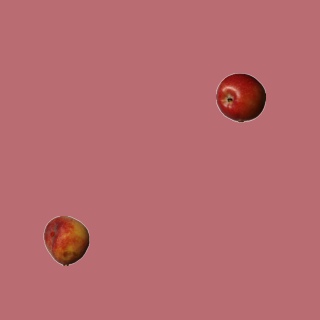Apple Braeburn: (215, 72, 265, 122)
Peach: (41, 215, 91, 265)
